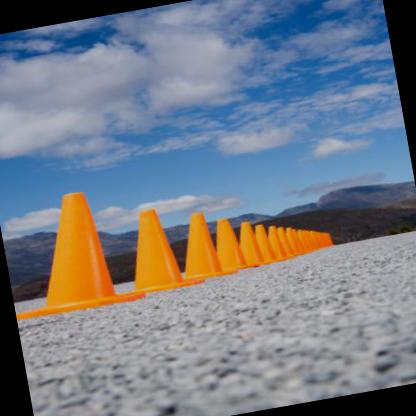cone: (0, 182, 145, 322), (119, 204, 198, 295), (173, 208, 230, 282), (208, 214, 249, 274), (230, 218, 262, 268)
